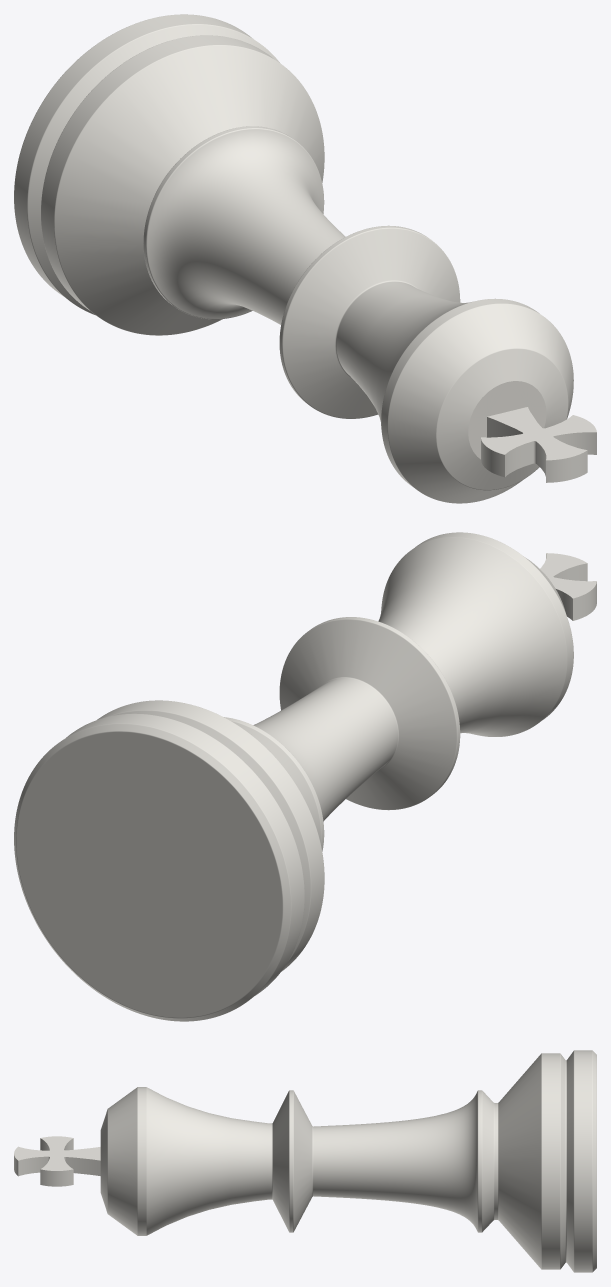
File: King_W.obj
3 renders of one model, top to bottom at view 1: azimuth 30°, elevation 25°; view 2: azimuth 150°, elevation 25°; view 3: azimuth 270°, elevation 25°, orthographic. The views are drawn at different scales.
Parts seen in each view (by area): view 1: Body1; view 2: Body1; view 3: Body1.
Boxes of the visible parts, x1,y1,x2,y2 form: Body1: [14, 14, 596, 503]; Body1: [14, 532, 596, 1021]; Body1: [14, 1050, 596, 1272].
Bounding box in the file's own units: 0.043 × 0.043 × 0.1127.
1 material, 1 textured.
